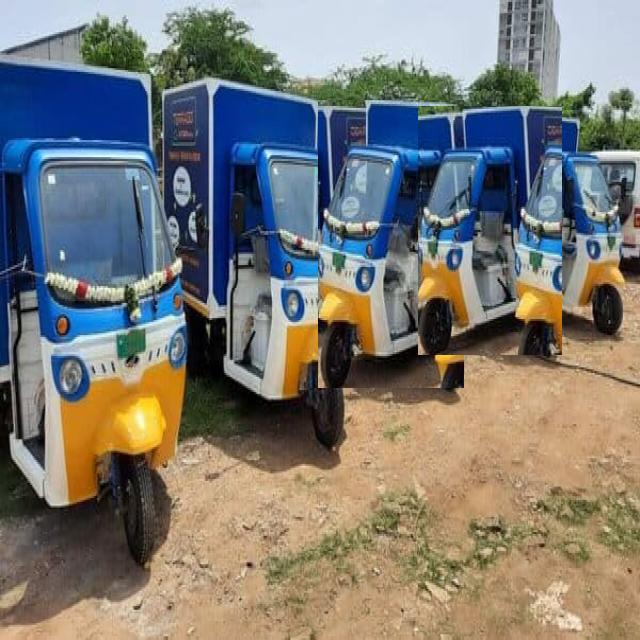autorickshaw: (0, 60, 186, 564), (162, 80, 356, 447), (319, 100, 464, 388), (418, 106, 562, 355), (516, 115, 624, 334)
